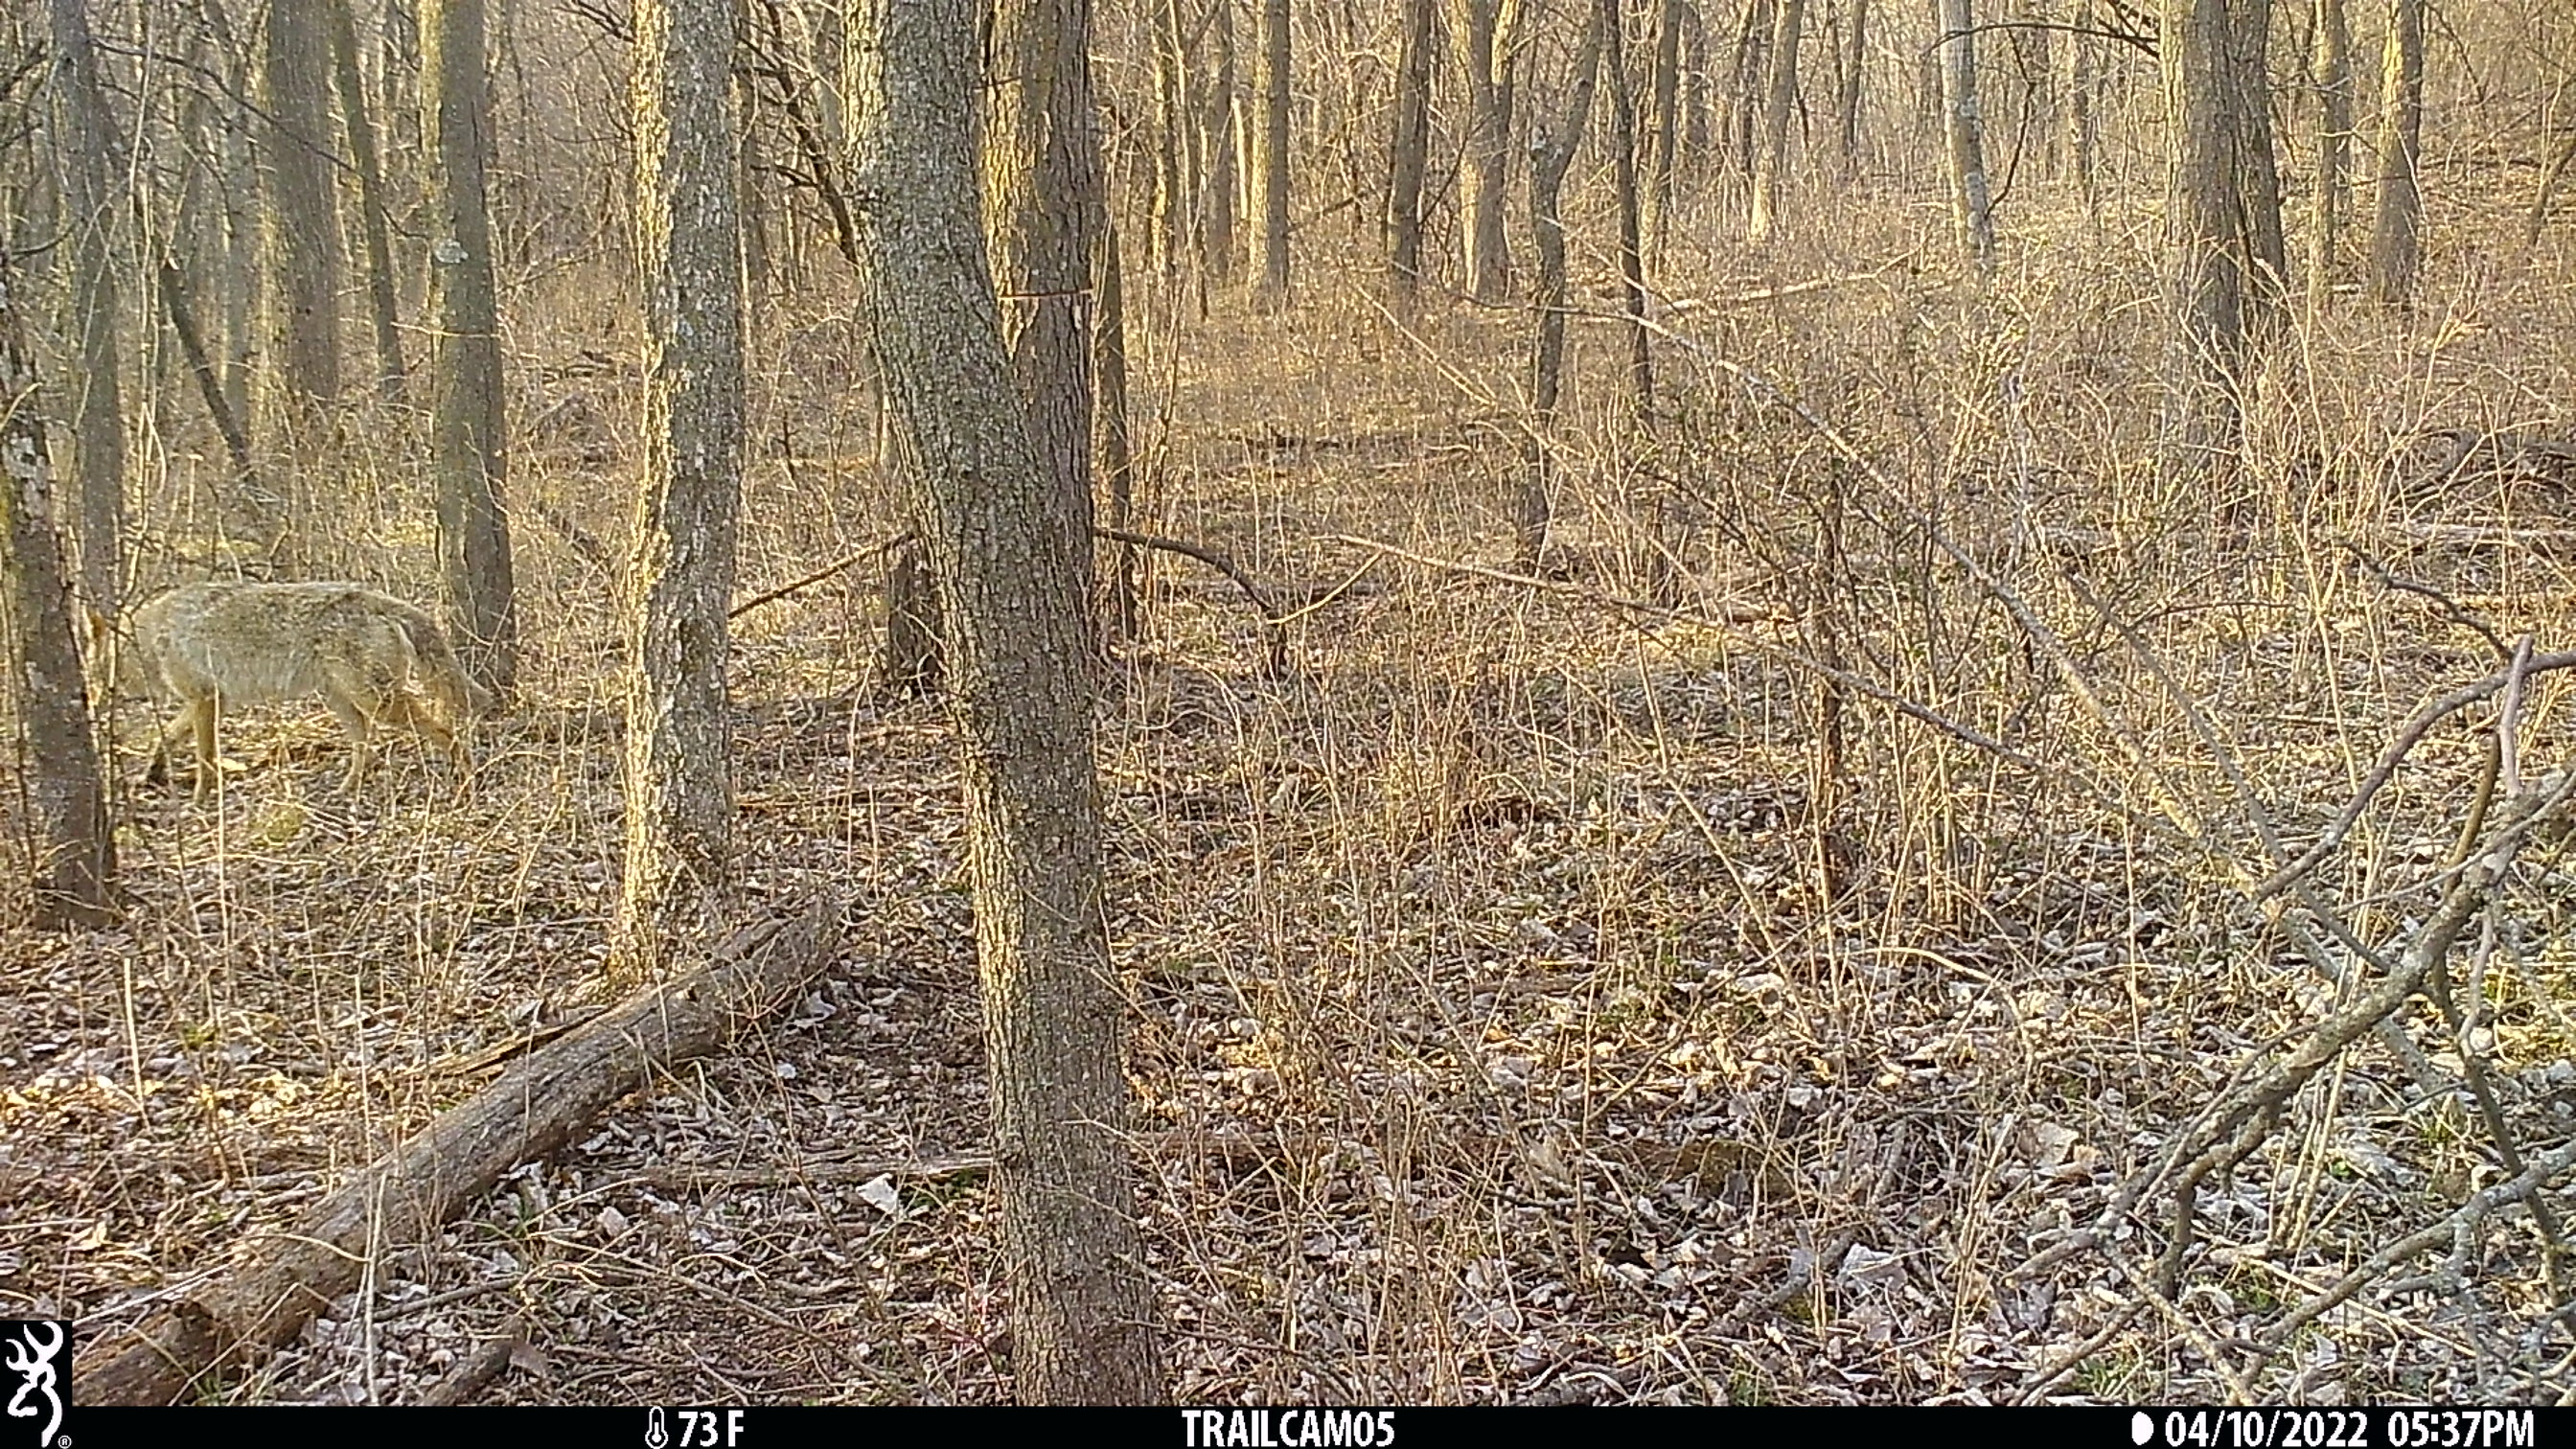Coyote: (85, 566, 490, 793)
